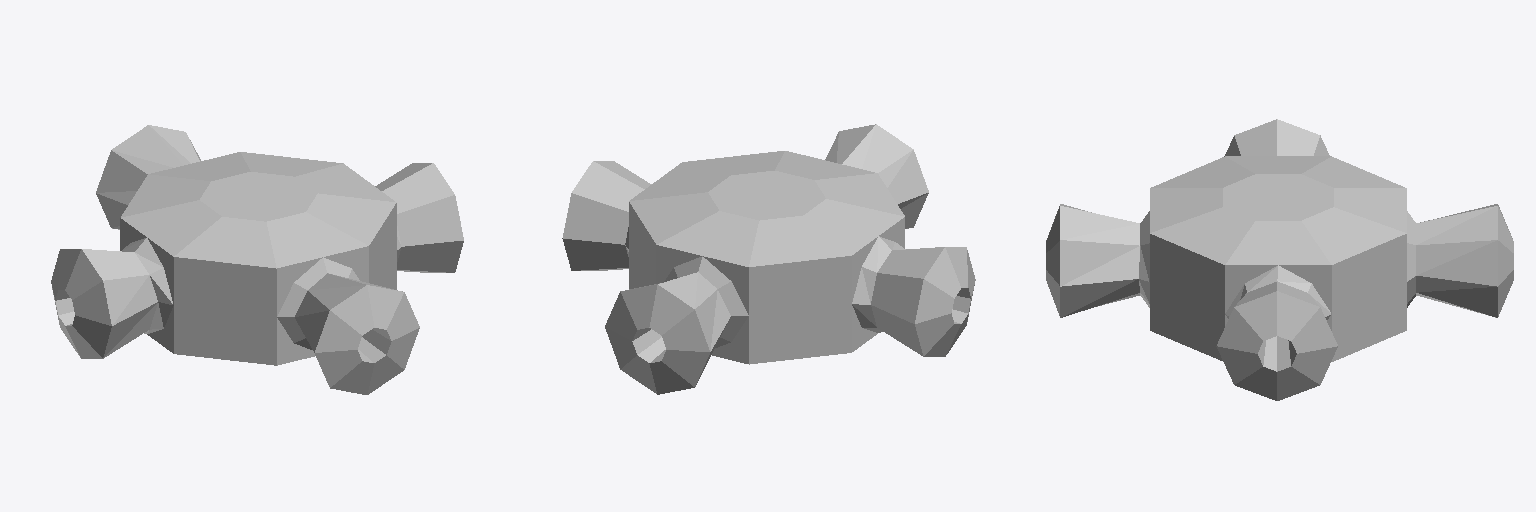
File: shooter.obj
3 views of the same model, side by side, from view 1: azimuth 30°, elevation 25°; view 2: azimuth 150°, elevation 25°; view 3: azimuth 270°, elevation 25° (orthographic).
Parts seen in each view (by area): view 1: Object001; view 2: Object001; view 3: Object001.
Part boxes in pixels (left/top/right/bottom): Object001: left=51, top=125, right=463, bottom=394; Object001: left=562, top=124, right=975, bottom=394; Object001: left=1046, top=119, right=1513, bottom=400.
Size of the model in its own units: 121 by 35.83 by 128.